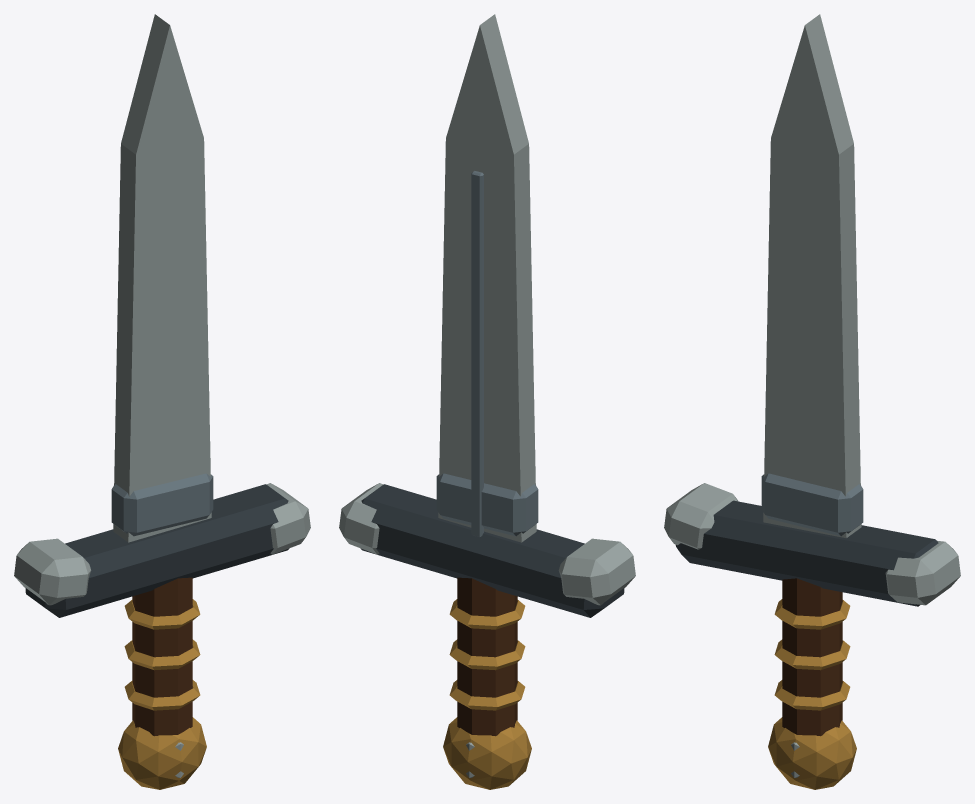
File: Sword.glb
3 renders of one model, left to right at view 1: azimuth 30°, elevation 25°; view 2: azimuth 150°, elevation 25°; view 3: azimuth 330°, elevation 25°, orthographic.
Visible parts, largest first — view 1: Sculpture; view 2: Sculpture; view 3: Sculpture.
Boxes of the visible parts, bbox=[...] form: Sculpture: bbox=[14, 14, 310, 789]; Sculpture: bbox=[339, 14, 635, 789]; Sculpture: bbox=[664, 14, 960, 789].
Size of the model in its own units: 0.3517 by 0.949 by 0.088.
